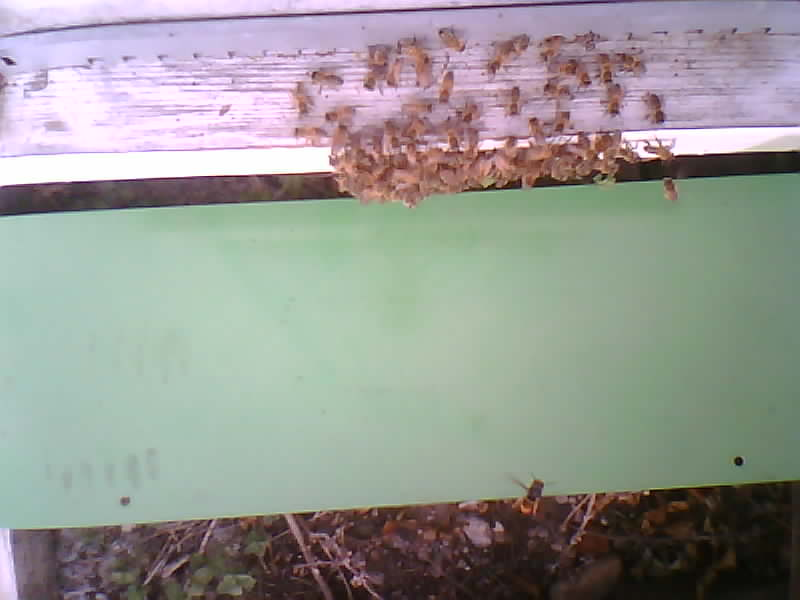bee: (304, 117, 681, 200), (364, 31, 652, 106), (289, 69, 345, 108)
hornet: (517, 474, 552, 525)
